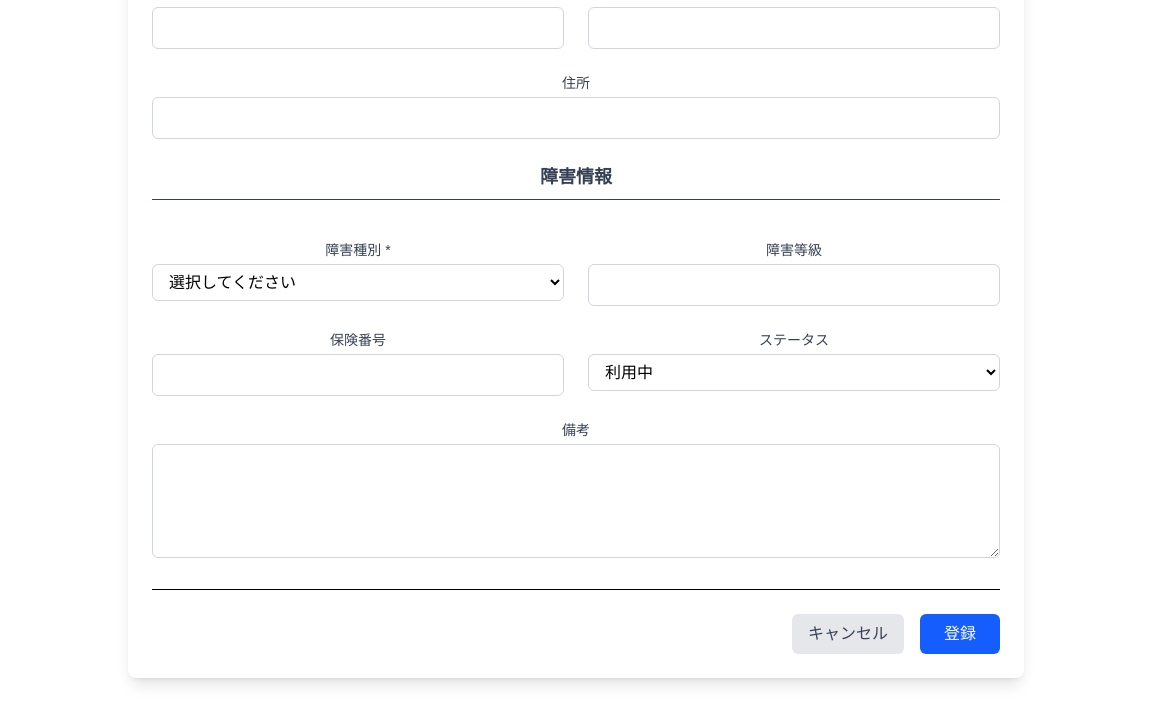
Test: ClientForm › バリデーション › 必須項目が空の場合エラーが表示される
(page scrolled)
# 送信ボタンをクリック
Click the button "登録": (960, 634) [920,614,1000,654]
(page scrolled)
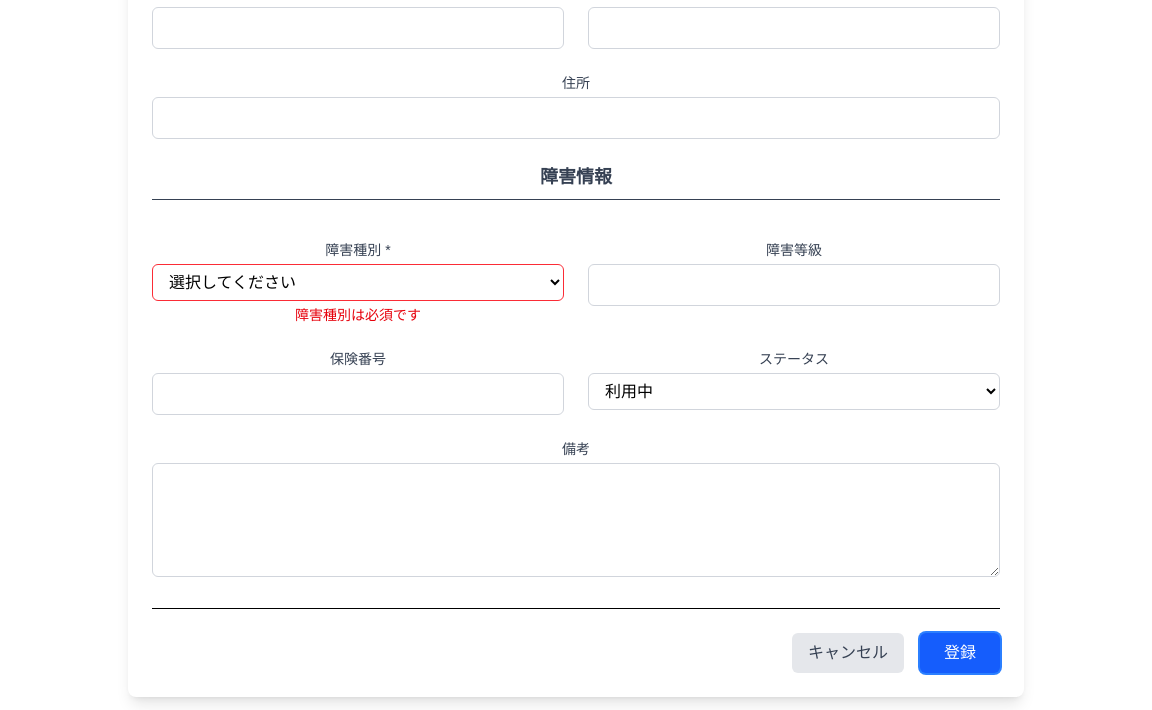
Now the text "障害種別は必須です" is shown, box [295,307,421,323]
